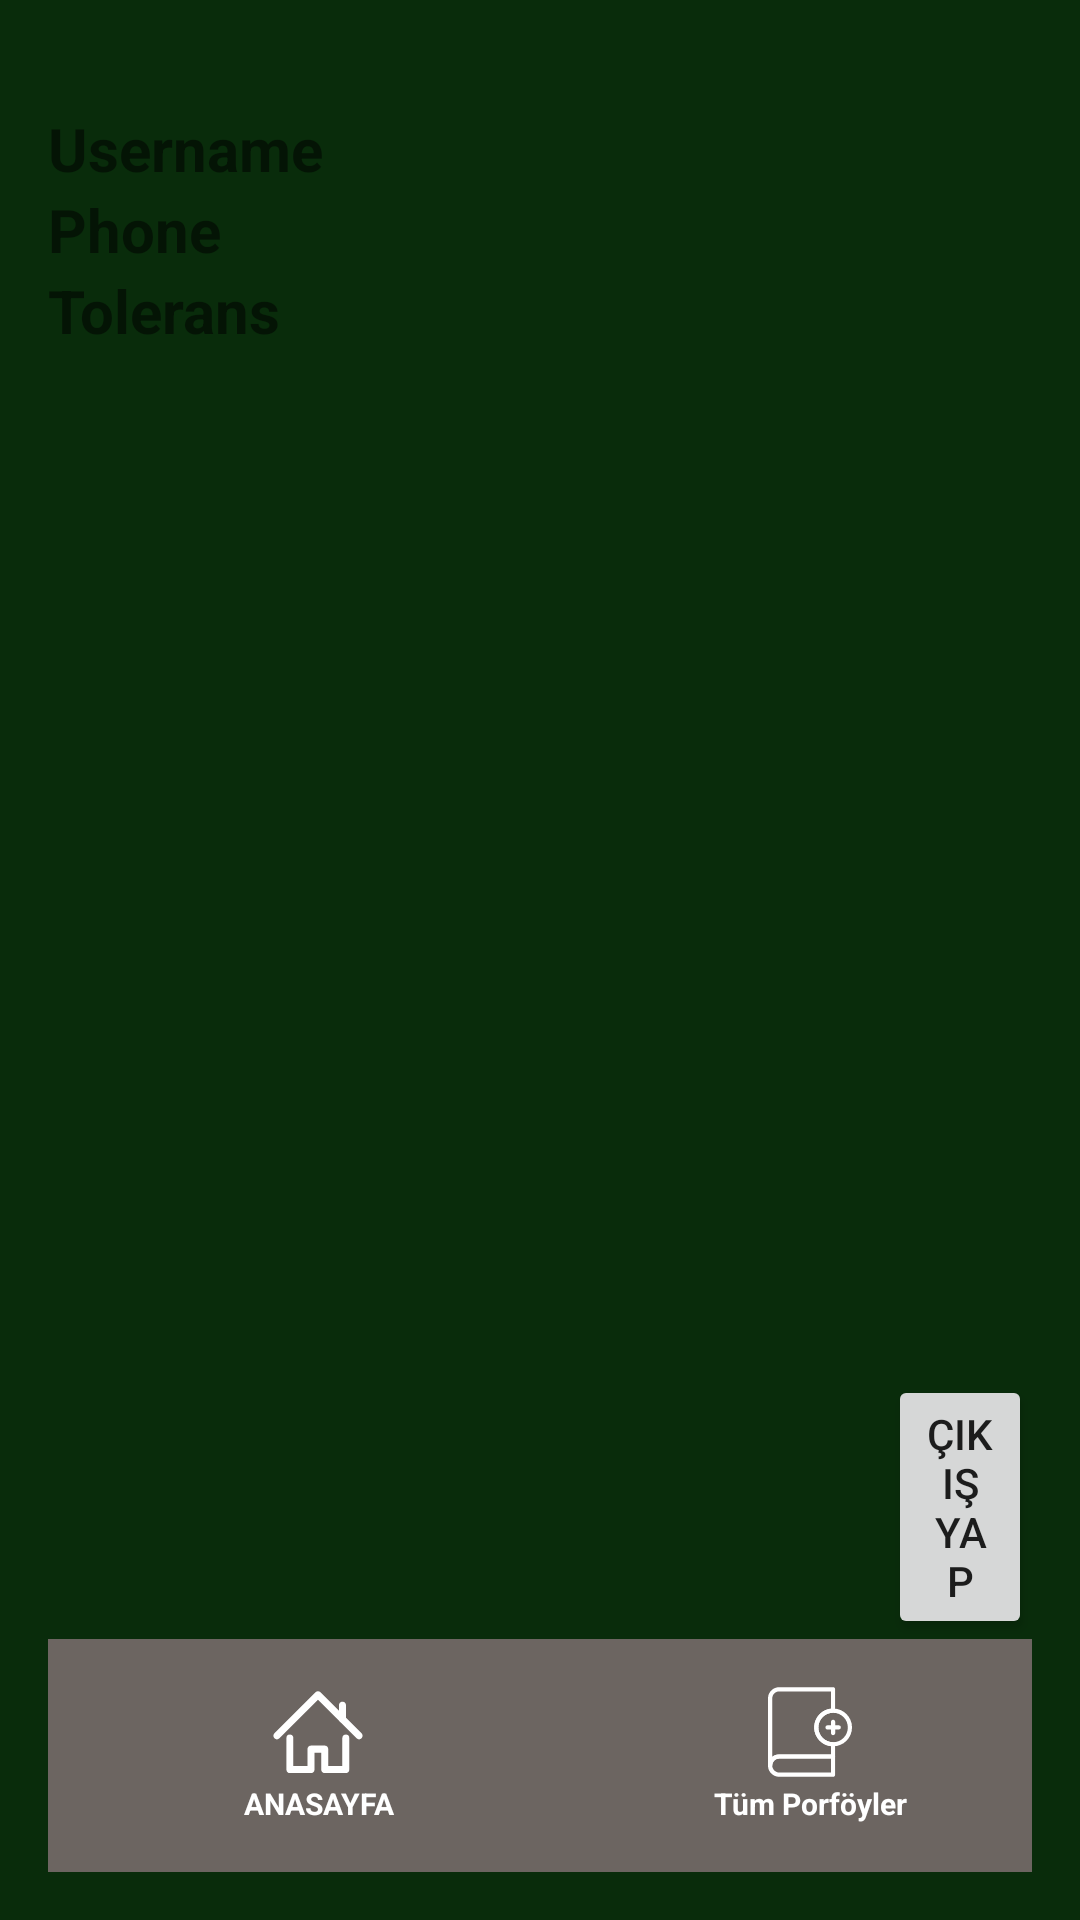

Icon bounding boxes for this 1080×1920 phone screenshot, format (x1=x1, y1=y1, x2=x2, y2=y2):
book add: (x1=768, y1=1687, x2=852, y2=1777)
